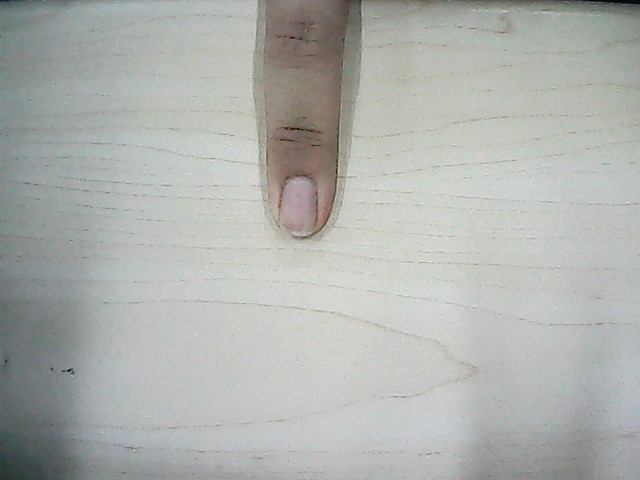nail: (278, 171, 319, 240)
